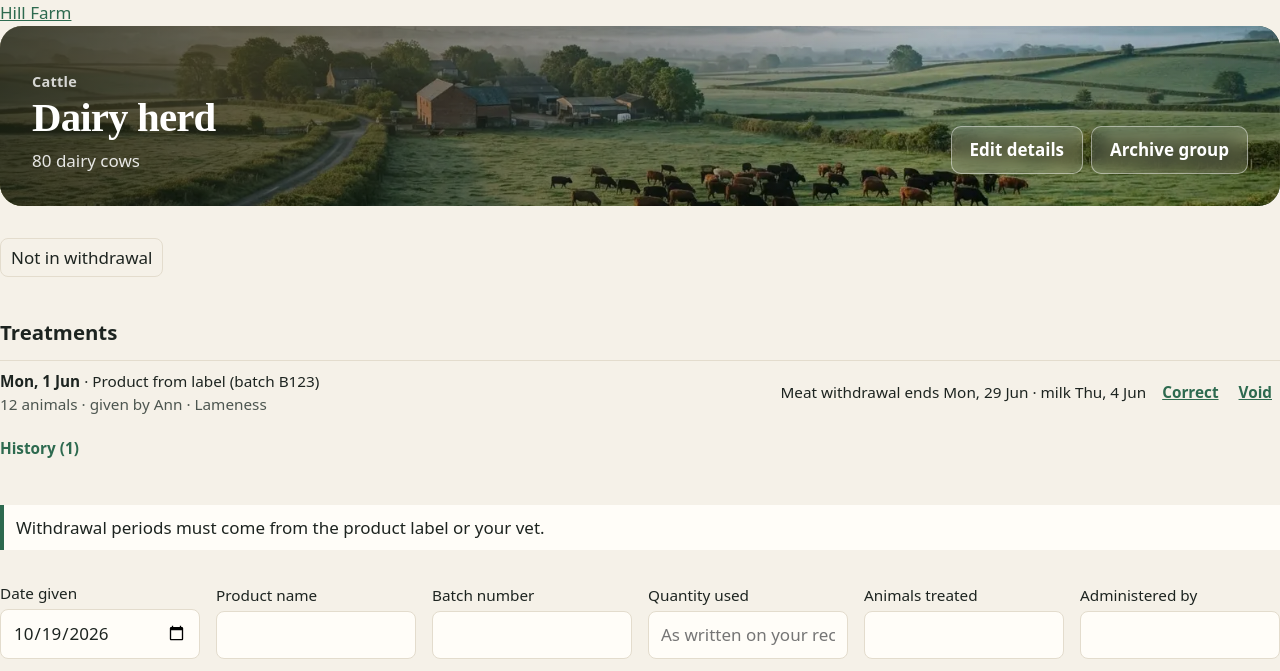
GroupPage › corrections and voids (FR-6.5) › shows a record's history: who, when, why and what changed
Click the heading "History (1)" at (39, 448), box [0,438,79,458]
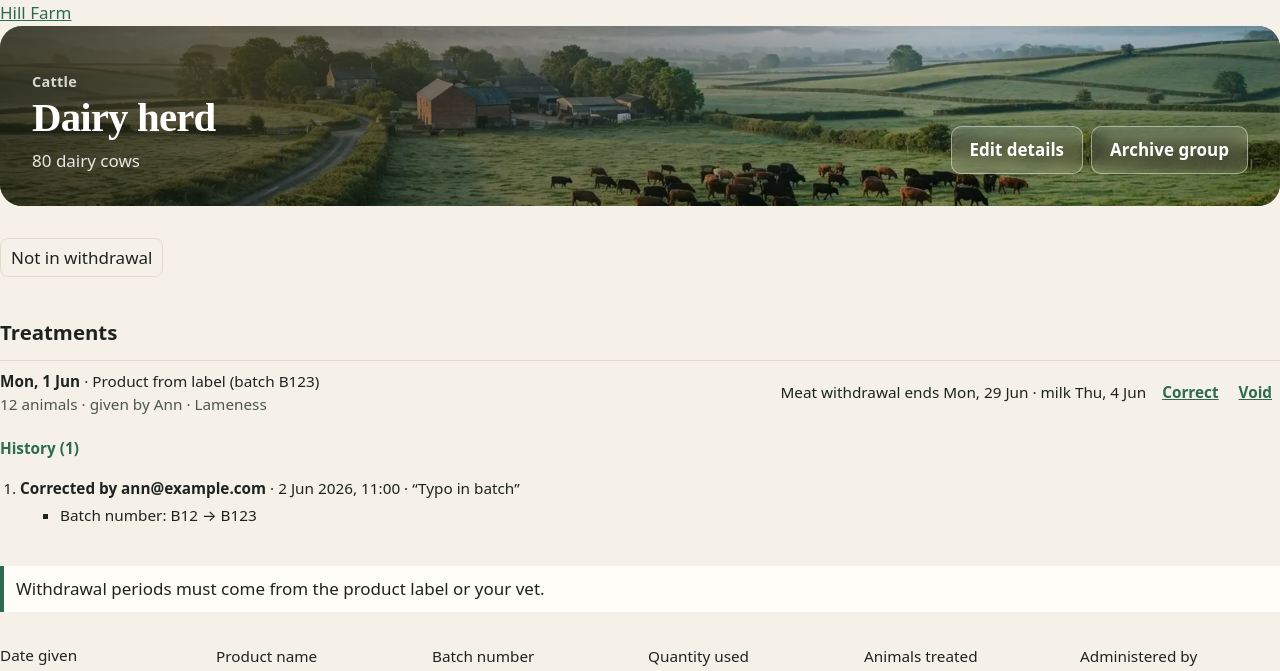
Now the text "Corrected by ann@example.com" is shown, box [20,478,266,498]
Now the text "Typo in batch" is shown, box [418,478,514,498]
Now the list item "Batch number: B12 → B123" is shown, box [60,504,257,524]
